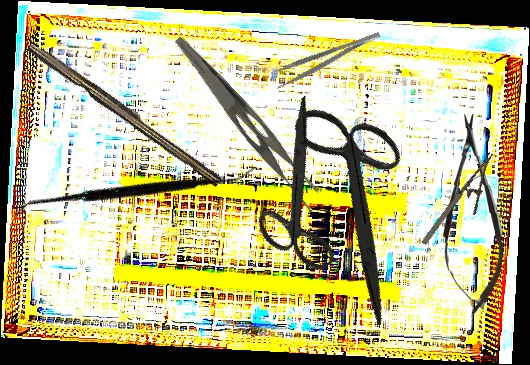Dressing Forceps: (157, 34, 333, 216), (270, 29, 385, 90)
Iris Scissors: (235, 80, 480, 327), (212, 95, 387, 287)
Micro Scissor: (437, 111, 507, 316)
Needle Holder: (418, 151, 512, 258)
Scalpel Handle: (24, 38, 227, 188)
Spatula Surgical: (12, 76, 256, 309)
